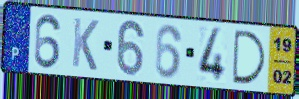4: (196, 25, 228, 85)
6: (116, 18, 146, 78), (33, 12, 63, 71), (154, 22, 184, 80)
D: (231, 28, 269, 86)
K: (70, 15, 101, 73)
